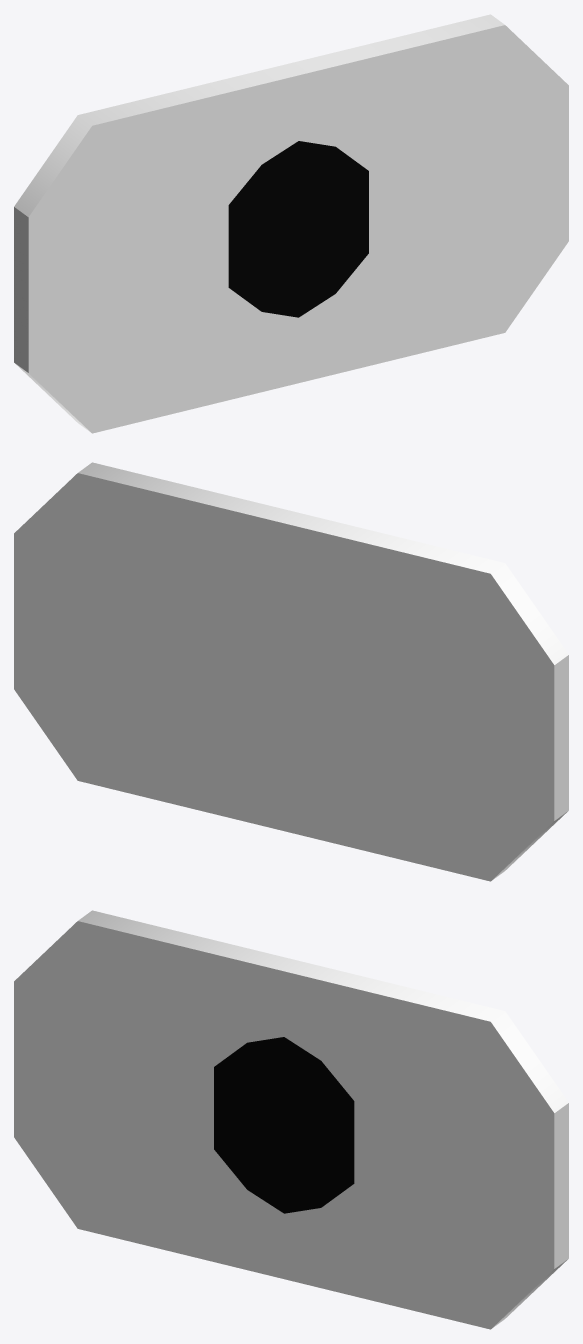
File: suiveur_def01.FBX
3 views of the same model, one above another, from view 1: azimuth 30°, elevation 25°; view 2: azimuth 150°, elevation 25°; view 3: azimuth 330°, elevation 25° (orthographic).
Visible parts, largest first — view 1: Box001; view 2: Box001; view 3: Box001.
Part boxes in pixels (x1,y1,x2,y2): Box001: (14, 14, 568, 433); Box001: (14, 462, 568, 881); Box001: (14, 910, 568, 1329).
Size of the model in its own units: 193 by 105 by 8.98.
